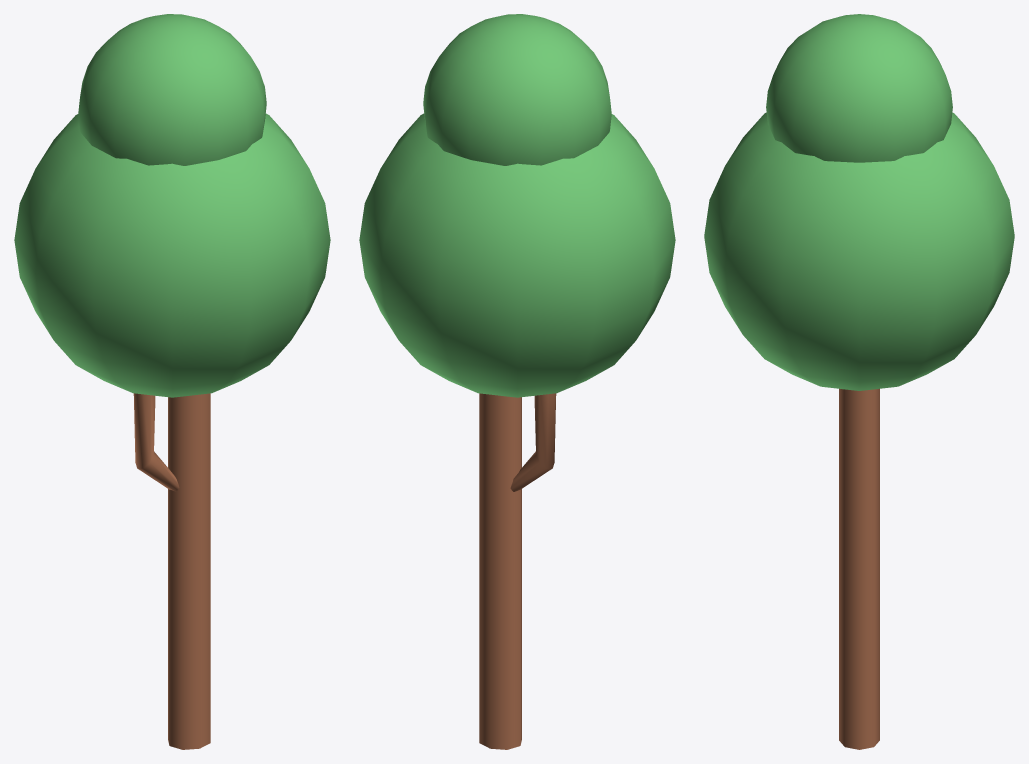
Rendered from Tree4.fbx.
The picture shows the model from 3 angles, left to right: view 1: azimuth 30°, elevation 25°; view 2: azimuth 150°, elevation 25°; view 3: azimuth 270°, elevation 25°; orthographic projection.
Parts seen in each view (by area): view 1: Tree.003; view 2: Tree.003; view 3: Tree.003.
Boxes of the visible parts, x1=… form: Tree.003: x1=14, y1=14, x2=330, y2=749; Tree.003: x1=359, y1=14, x2=675, y2=749; Tree.003: x1=704, y1=14, x2=1014, y2=749.
Size of the model in its own units: 737 by 737 by 1859.
